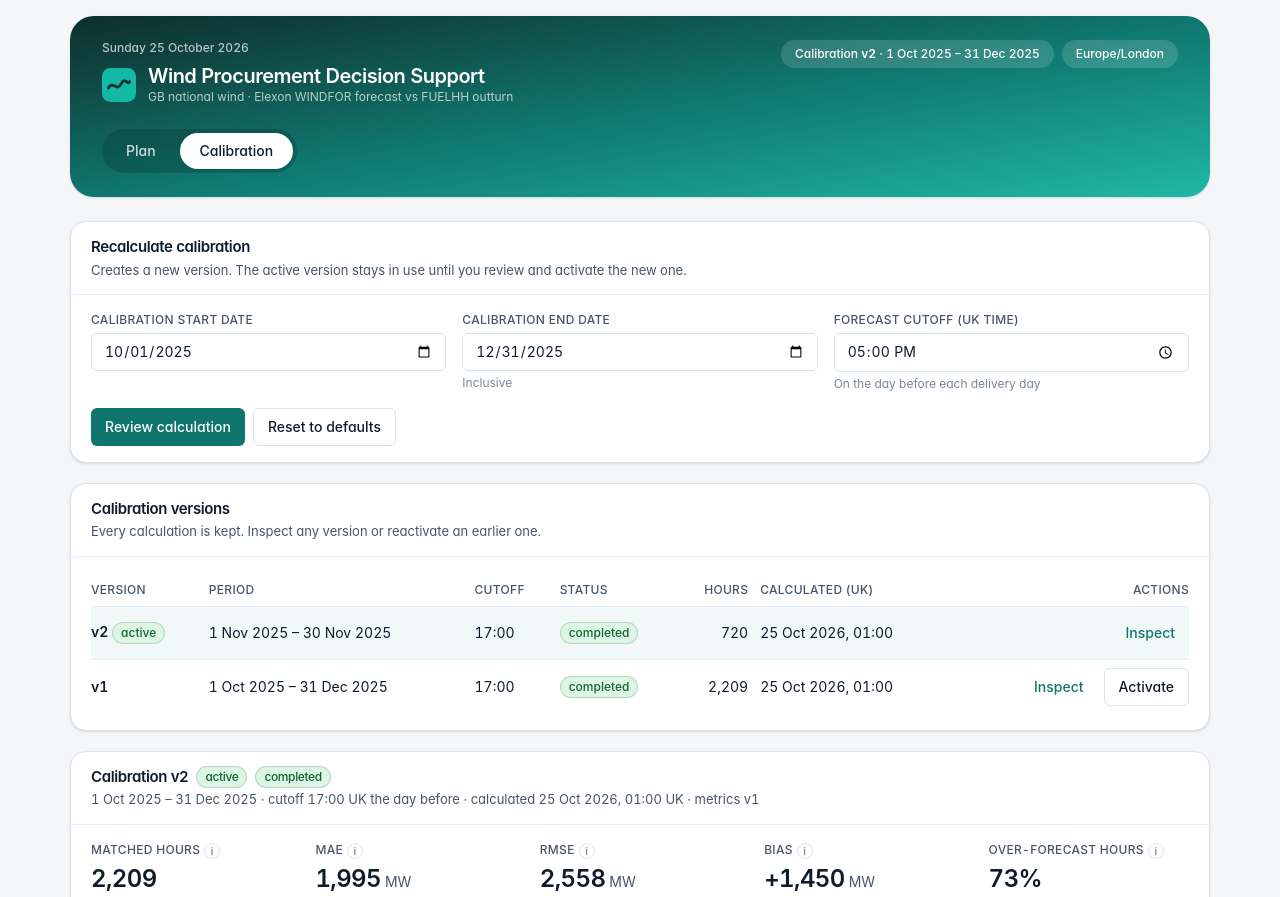
Test: Calibration management › lists versions and reactivates an earlier one
Expected: the number of rows is 3, [91,573,1189,606]; [91,606,1189,659]; [91,659,1189,714]
Click the button with aria-label "Activate version 1" at [1146, 687], box [1104,668,1189,706]
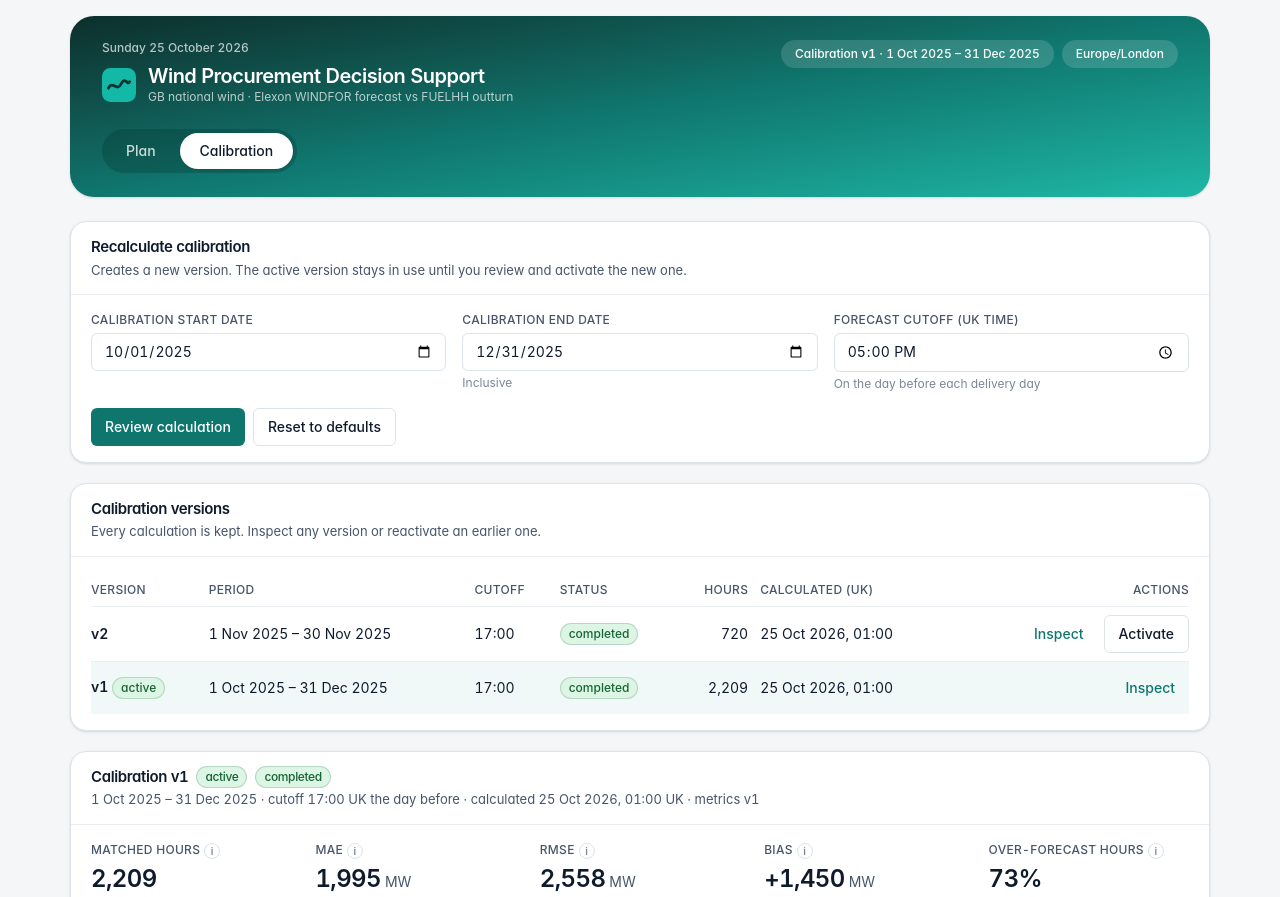
Result: the button with aria-label "Activate version 2" is shown at [1104,615,1189,653]
